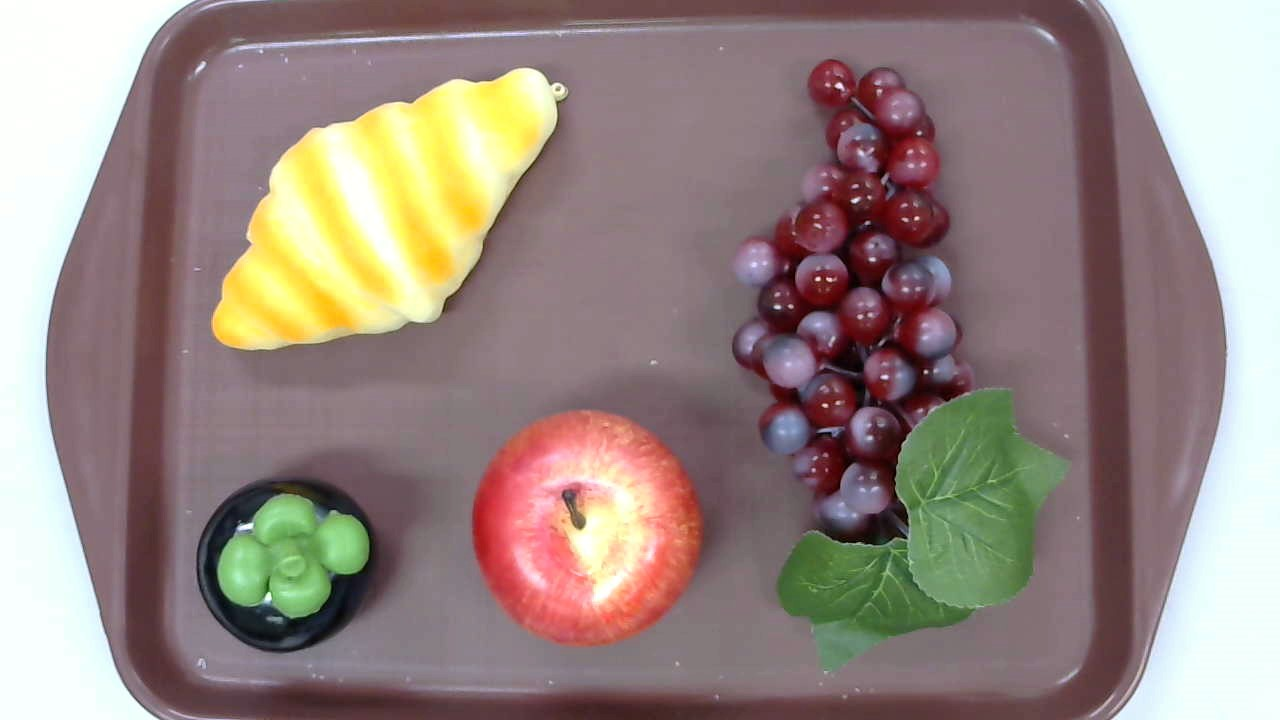croissant: (211, 65, 569, 352)
grape: (730, 58, 1071, 675)
mangosteen: (196, 474, 379, 656)
red apple: (471, 409, 703, 647)
